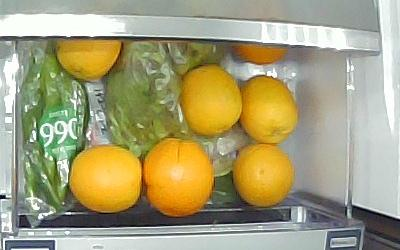orange: (142, 135, 214, 216), (67, 143, 143, 212), (178, 62, 243, 134), (238, 75, 299, 143), (231, 141, 293, 206), (54, 38, 121, 79), (232, 43, 288, 65)
